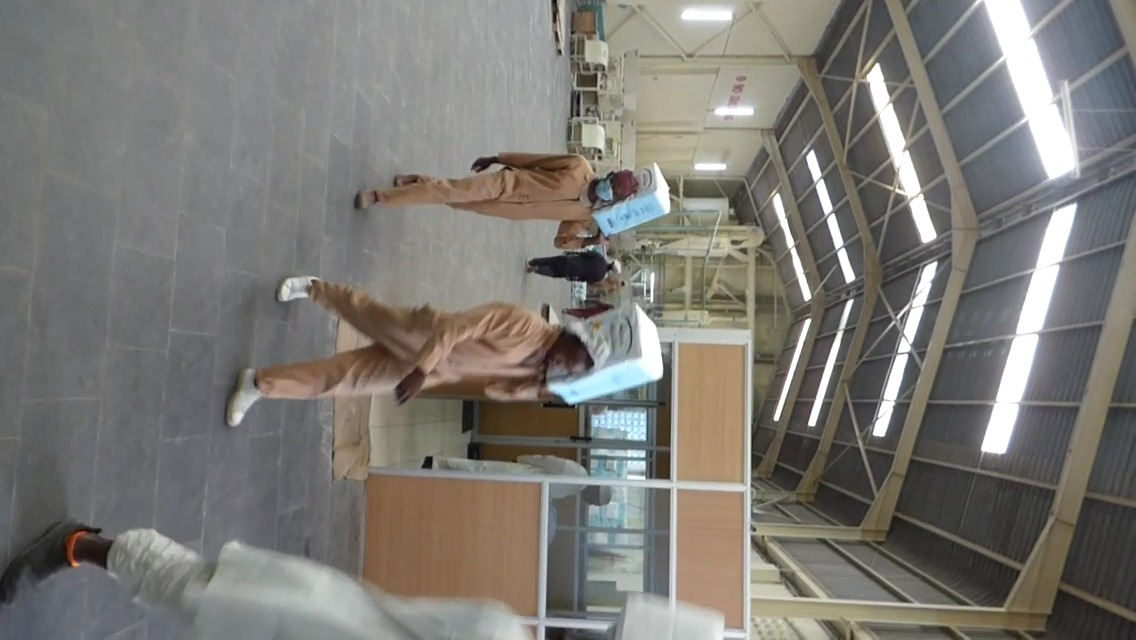wheat_flour_blue_label: (547, 306, 663, 401), (594, 162, 669, 234)
